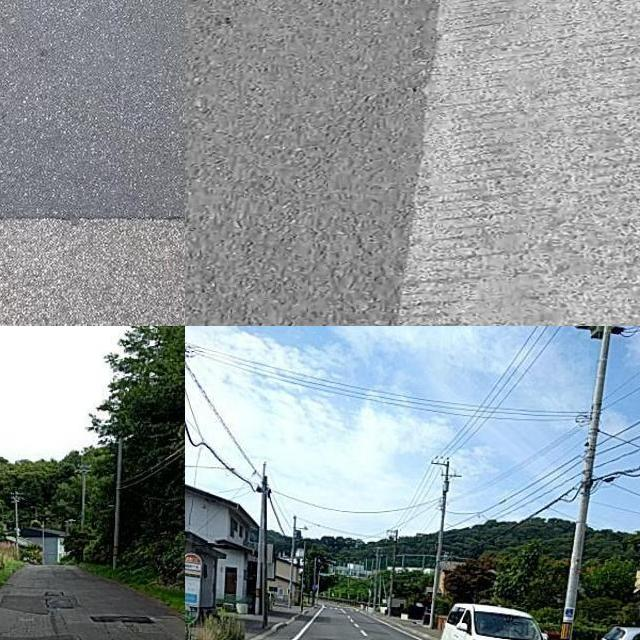Sambungan: (395, 0, 640, 326), (0, 0, 185, 226), (0, 591, 50, 615)
